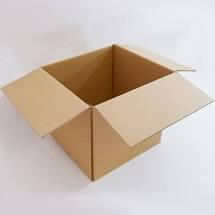box: (9, 43, 215, 183)
